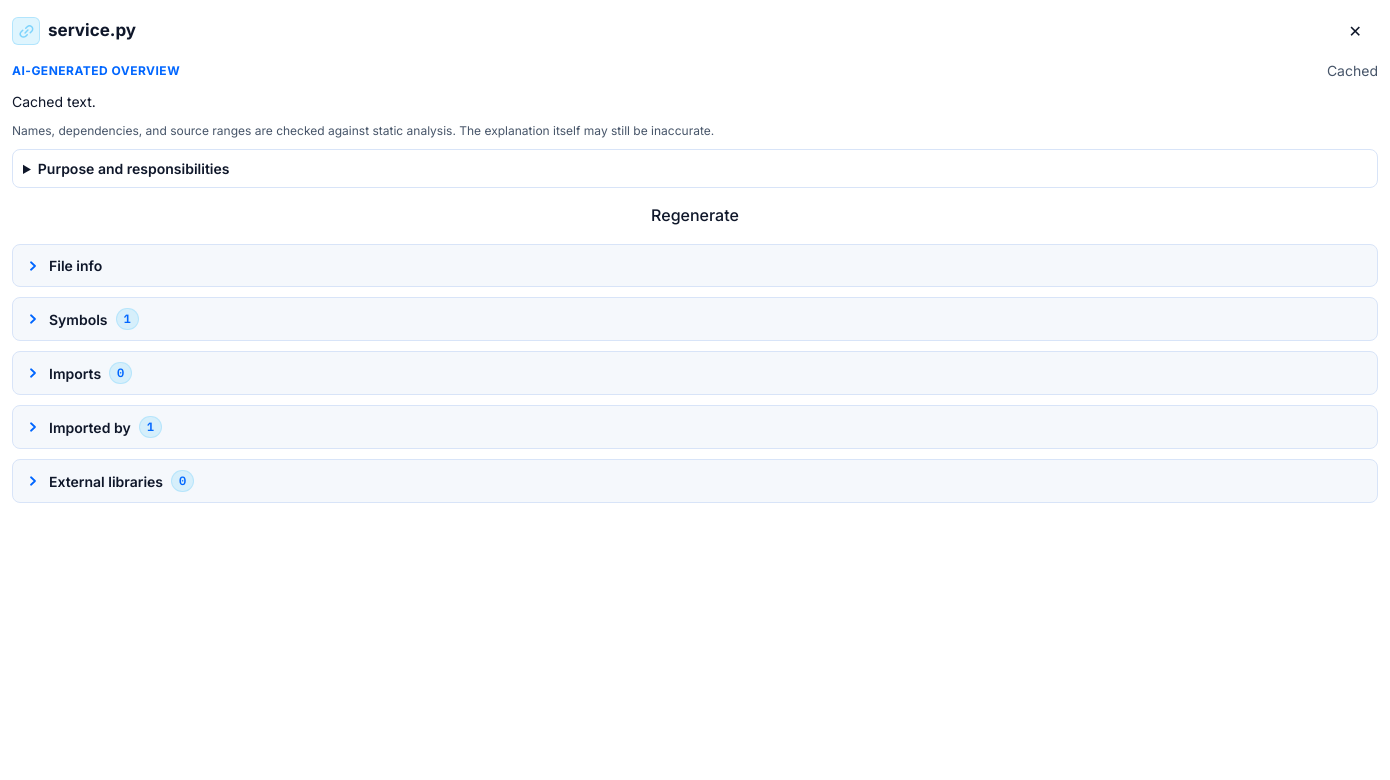
Test: AI File Overview integration › keeps a cached summary visible when regeneration fails
Expected: the text "Cached text." is shown, [12,93,96,110]
Click the button "Regenerate" at (695, 215), box [12,196,1378,234]
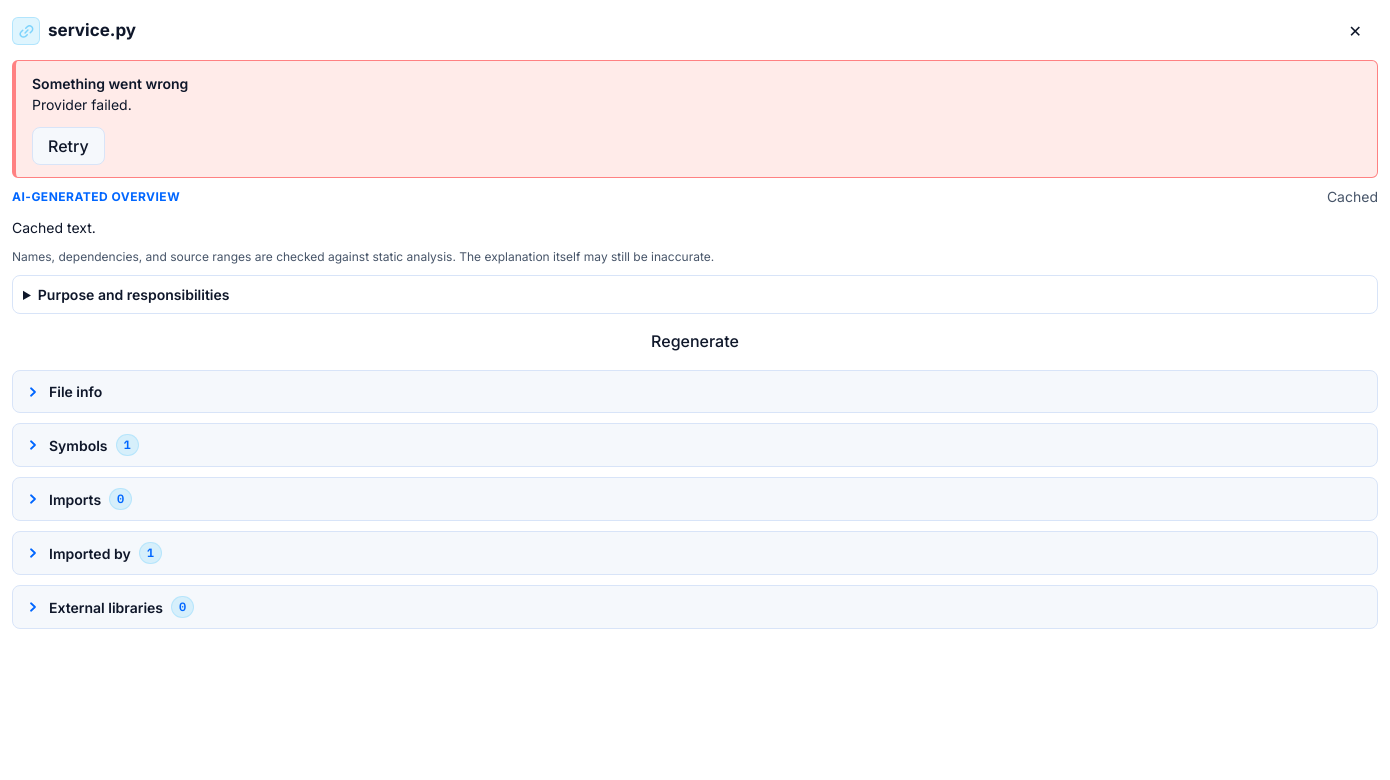
Expected: the text "Cached text." is shown, [12,219,96,236]
Now the text "Provider failed." is shown, box [32,96,132,113]
